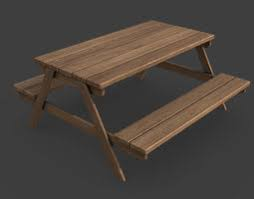obstacle: (4, 14, 251, 187)
